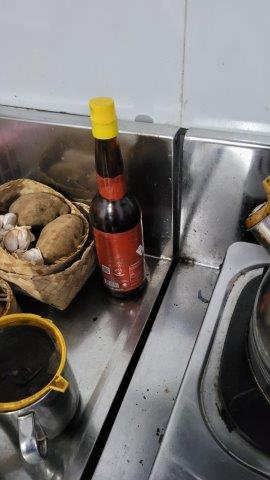botolkaca: (86, 97, 151, 306)
